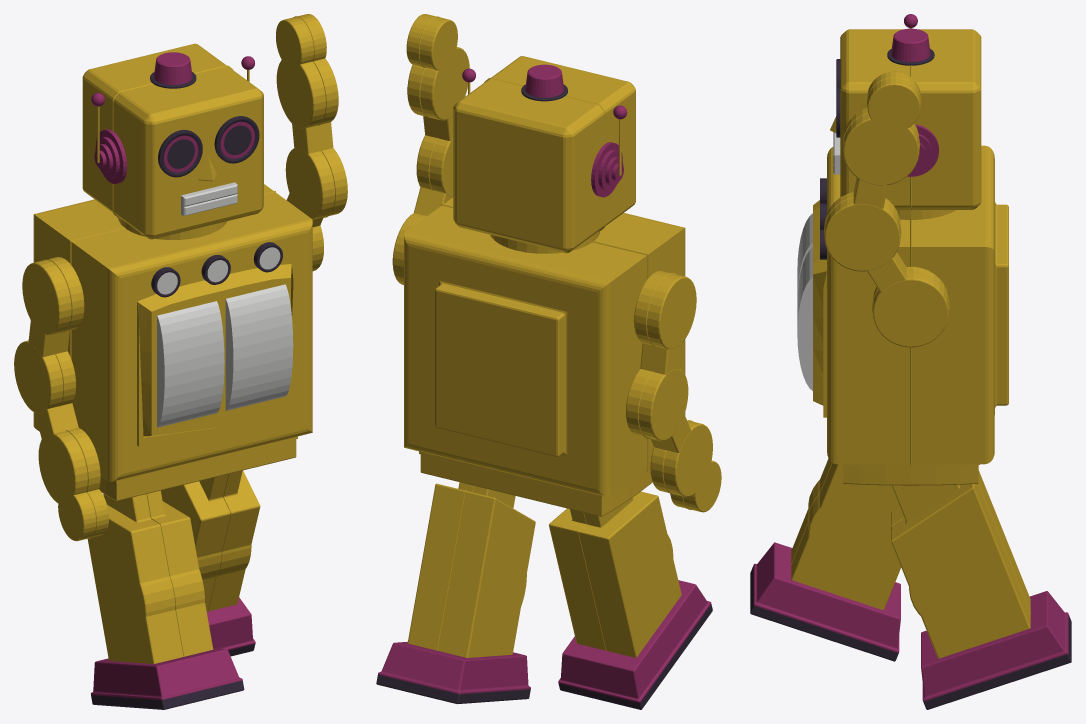
The model's file is jmldstrrobot_merged.dae.
3 renders of one model, left to right at view 1: azimuth 30°, elevation 25°; view 2: azimuth 150°, elevation 25°; view 3: azimuth 270°, elevation 25°, orthographic.
Visible parts, largest first — view 1: Cylinder_002, Cylinder_001, Cylinder_003, Cylinder_004, Cylinder_000; view 2: Cylinder_002, Cylinder_000, Cylinder_001, Cylinder_003, Cylinder_004; view 3: Cylinder_002, Cylinder_000, Cylinder_001, Cylinder_004.
Part boxes in pixels (bbox=[...]): Cylinder_002: bbox=[33, 43, 312, 501]; Cylinder_001: bbox=[87, 490, 244, 709]; Cylinder_003: bbox=[14, 257, 109, 541]; Cylinder_004: bbox=[276, 14, 347, 271]; Cylinder_000: bbox=[161, 470, 260, 656]; Cylinder_002: bbox=[404, 56, 685, 516]; Cylinder_000: bbox=[376, 482, 535, 704]; Cylinder_001: bbox=[549, 491, 712, 709]; Cylinder_003: bbox=[626, 270, 721, 512]; Cylinder_004: bbox=[392, 14, 469, 285]; Cylinder_002: bbox=[797, 14, 1008, 485]; Cylinder_000: bbox=[890, 470, 1071, 709]; Cylinder_001: bbox=[750, 458, 901, 661]; Cylinder_004: bbox=[823, 71, 949, 347].
Size of the model in its own units: 4.43 by 4.56 by 10.15.
